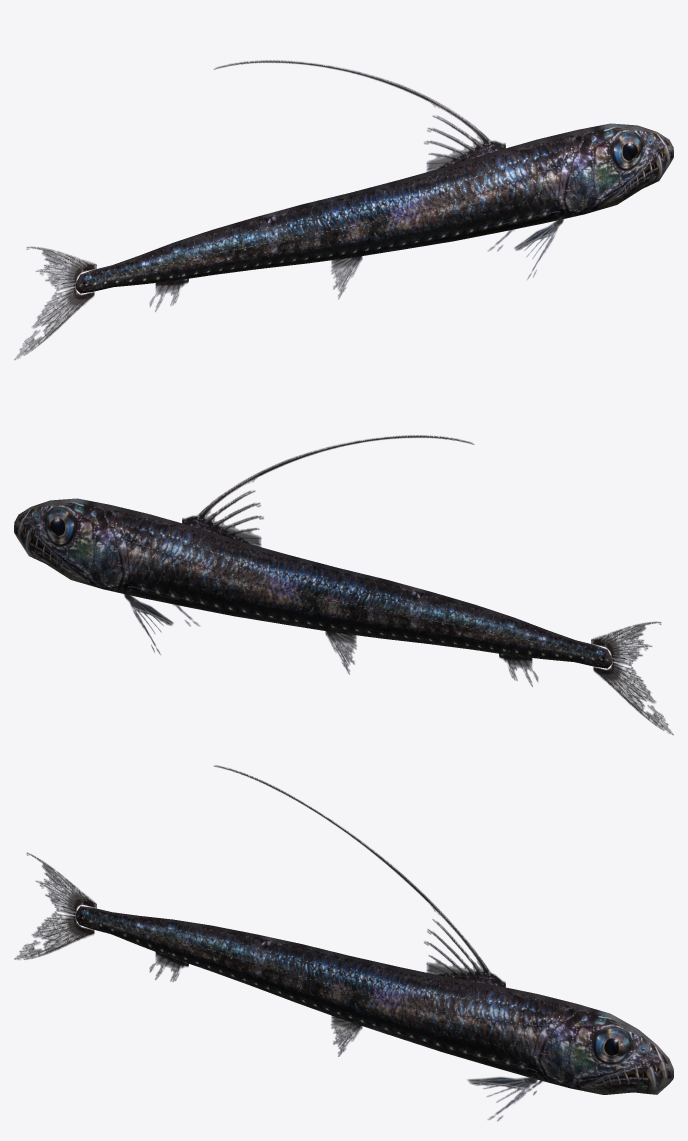
File: houraieso_lo.glb
The picture shows the model from 3 angles, top to bottom: view 1: azimuth 30°, elevation 25°; view 2: azimuth 150°, elevation 25°; view 3: azimuth 330°, elevation 25°; orthographic projection.
Parts seen in each view (by area): view 1: houraieso; view 2: houraieso; view 3: houraieso.
Boxes of the visible parts, left/top/right/bottom form: houraieso: left=14, top=60, right=673, bottom=360; houraieso: left=14, top=435, right=673, bottom=735; houraieso: left=14, top=765, right=673, bottom=1121.
Bounding box in the file's own units: 0.2504 × 0.0984 × 0.0312.
Materials: 1 (1 with a texture image).
